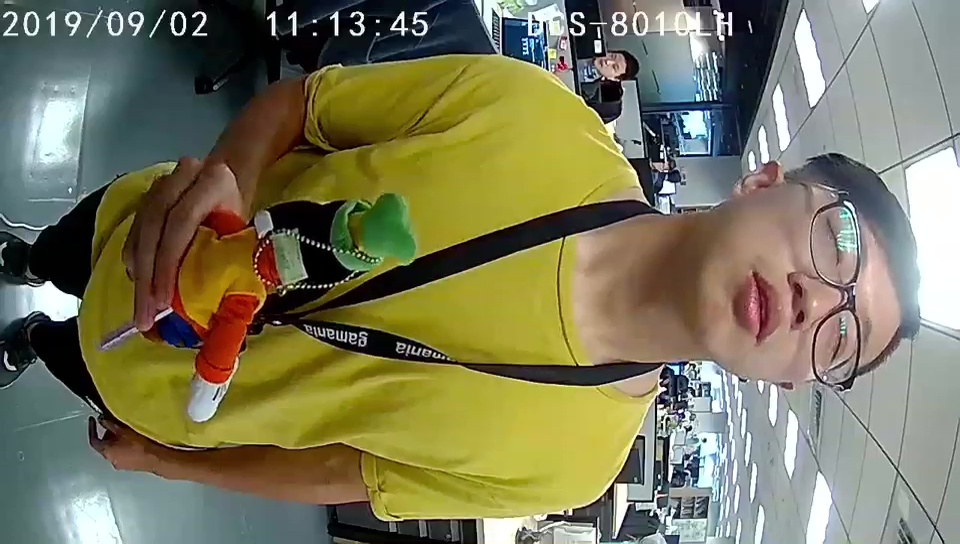goofy: (182, 192, 417, 422)
